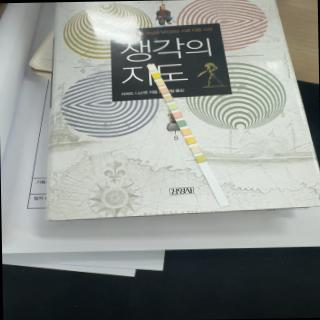mark: (172, 110, 182, 118), (190, 146, 200, 154), (186, 136, 195, 144), (196, 155, 205, 162), (182, 128, 190, 135), (147, 64, 156, 70), (177, 120, 186, 126), (152, 72, 160, 78), (156, 80, 164, 86), (160, 88, 168, 94), (164, 96, 172, 102), (168, 104, 176, 110)
